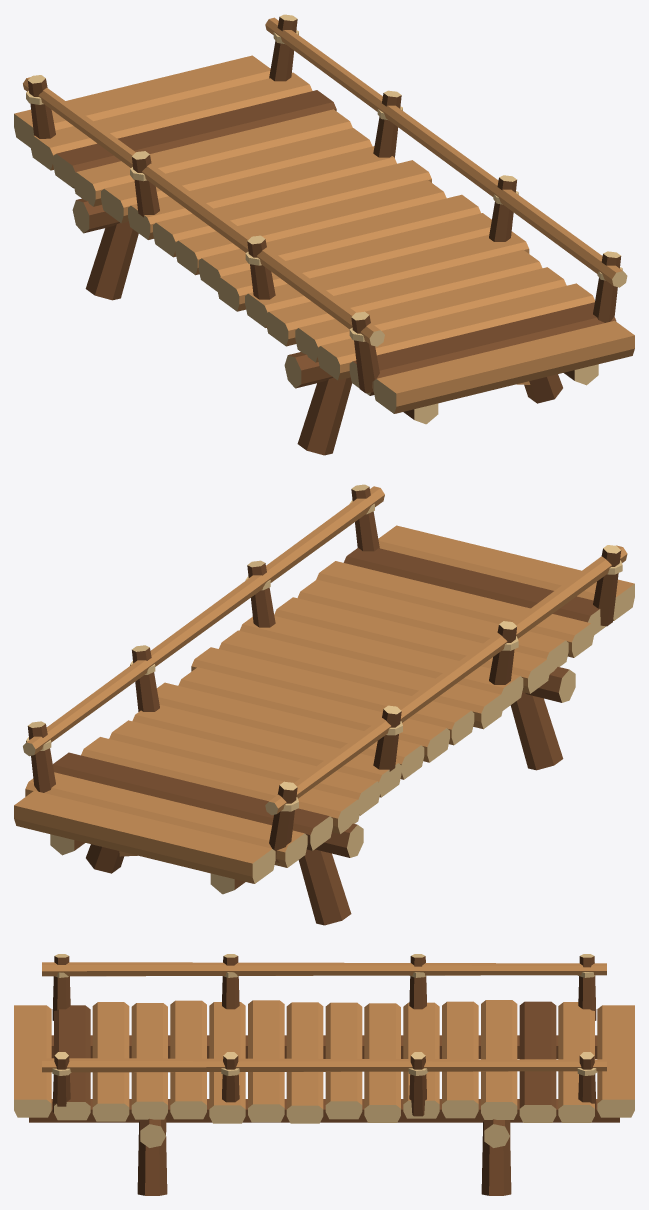
Rendered from road_bridge.fbx.
3 views of the same model, one above another, from view 1: azimuth 30°, elevation 25°; view 2: azimuth 150°, elevation 25°; view 3: azimuth 270°, elevation 25° (orthographic). The views are drawn at different scales.
Visible parts, largest first — view 1: road_bridge; view 2: road_bridge; view 3: road_bridge.
Part boxes in pixels (<box>): road_bridge: <box>14,14,634,455</box>; road_bridge: <box>14,484,634,925</box>; road_bridge: <box>14,954,634,1195</box>.
Bounding box in the file's own units: 0.414 × 0.2622 × 1.
